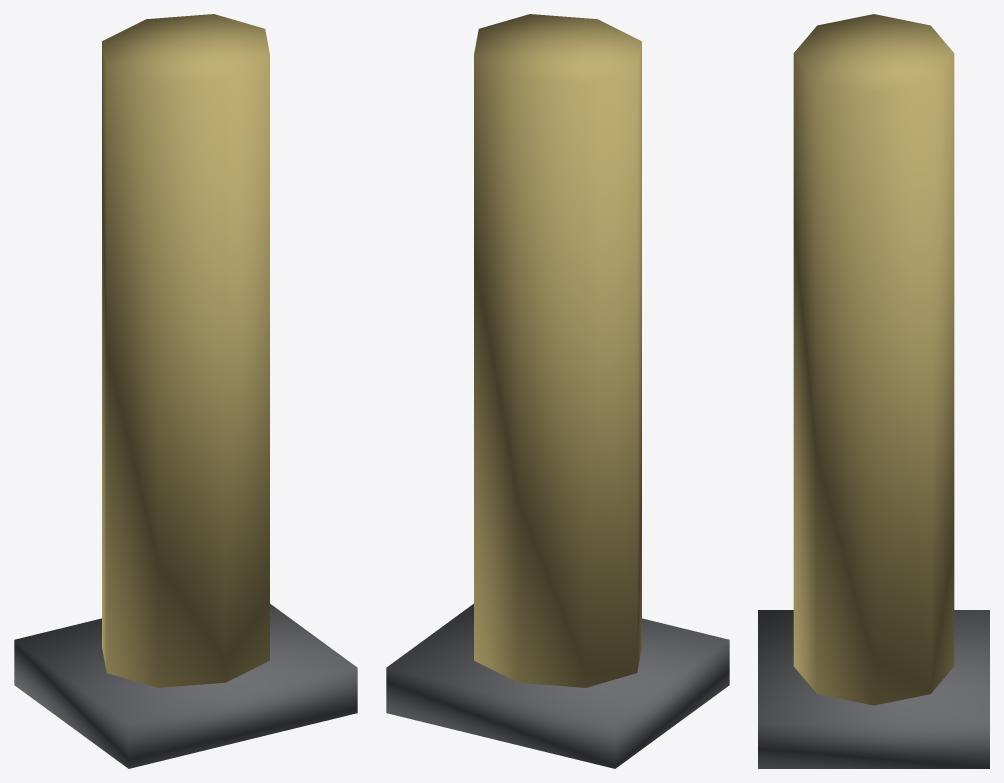
The model's file is bollard_04.glb.
3 renders of one model, left to right at view 1: azimuth 30°, elevation 25°; view 2: azimuth 150°, elevation 25°; view 3: azimuth 270°, elevation 25°, orthographic.
Visible parts, largest first — view 1: world; view 2: world; view 3: world.
Boxes of the visible parts, bbox=[...] form: world: bbox=[14, 14, 357, 768]; world: bbox=[386, 14, 729, 768]; world: bbox=[758, 14, 989, 768].
Bounding box in the file's own units: 0.2912 × 0.7912 × 0.2522.
